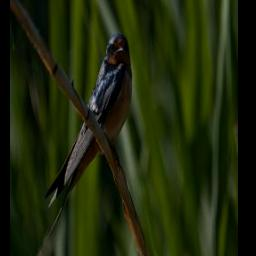Swallow: (42, 30, 132, 246)
